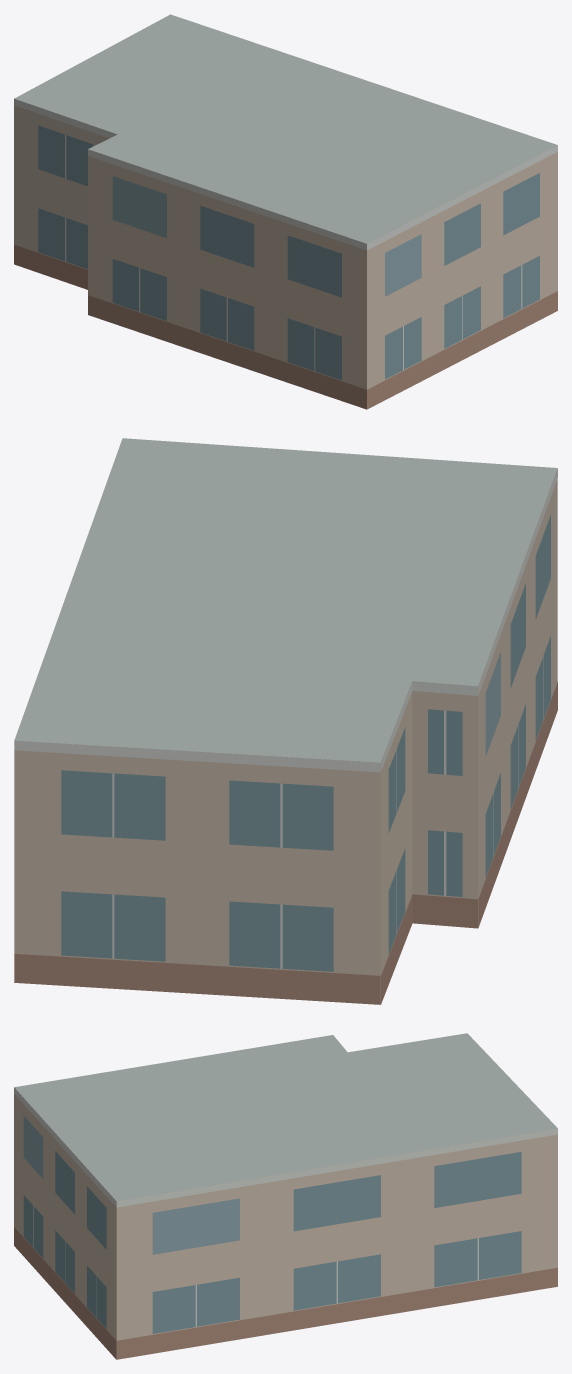
Rendered from survey-upis-32867226.glb.
3 views of the same model, one above another, from view 1: azimuth 30°, elevation 25°; view 2: azimuth 150°, elevation 25°; view 3: azimuth 270°, elevation 25° (orthographic). The views are drawn at different scales.
Visible parts, largest first — view 1: survey-upis-32867226.tmp; view 2: survey-upis-32867226.tmp; view 3: survey-upis-32867226.tmp.
Boxes of the visible parts, x1=… form: survey-upis-32867226.tmp: x1=14, y1=14, x2=557, y2=409; survey-upis-32867226.tmp: x1=14, y1=438, x2=557, y2=1004; survey-upis-32867226.tmp: x1=14, y1=1033, x2=557, y2=1359.
Bounding box in the file's own units: 13.89 × 6.1 × 18.98.
